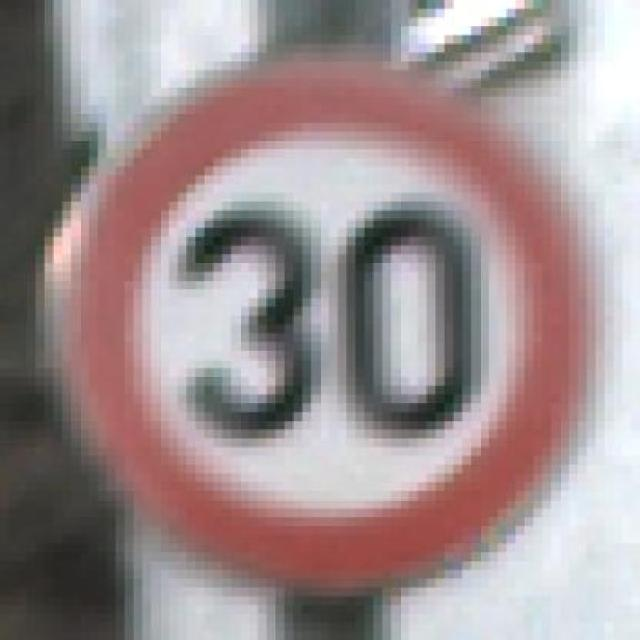Speed Limit 30 KMPh: (35, 35, 623, 596)
